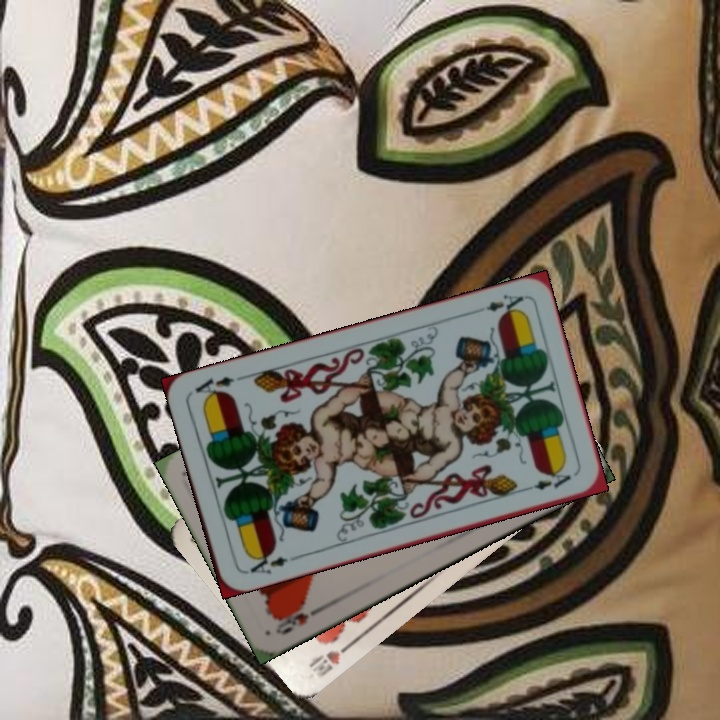EA: (469, 290, 526, 319), (241, 548, 291, 577)
H10: (304, 637, 357, 680)
HO: (271, 602, 326, 638)
